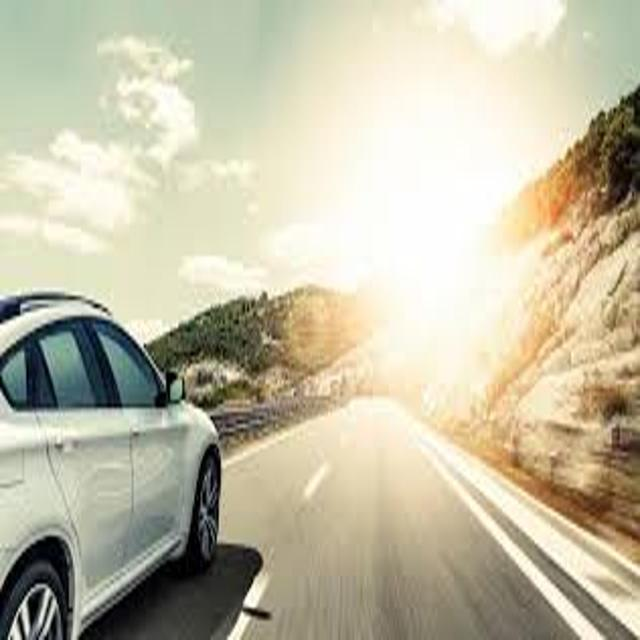car: (1, 292, 222, 640)
